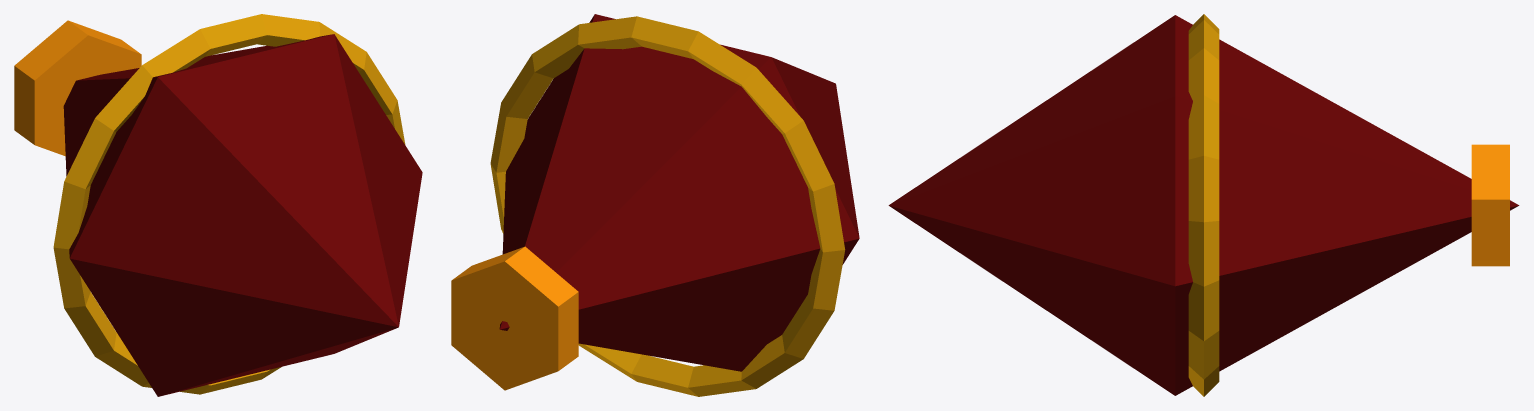
File: carrier_pod.glb
The picture shows the model from 3 angles, left to right: view 1: azimuth 30°, elevation 25°; view 2: azimuth 150°, elevation 25°; view 3: azimuth 270°, elevation 25°; orthographic projection. The views are drawn at different scales.
Visible parts, largest first — view 1: carrier_pod; view 2: carrier_pod; view 3: carrier_pod.
Part boxes in pixels (x1,y1,x2,y2): carrier_pod: (14,14,422,396); carrier_pod: (451,14,859,396); carrier_pod: (888,14,1519,396).
Size of the model in its own units: 4.02 by 3.96 by 6.6.
